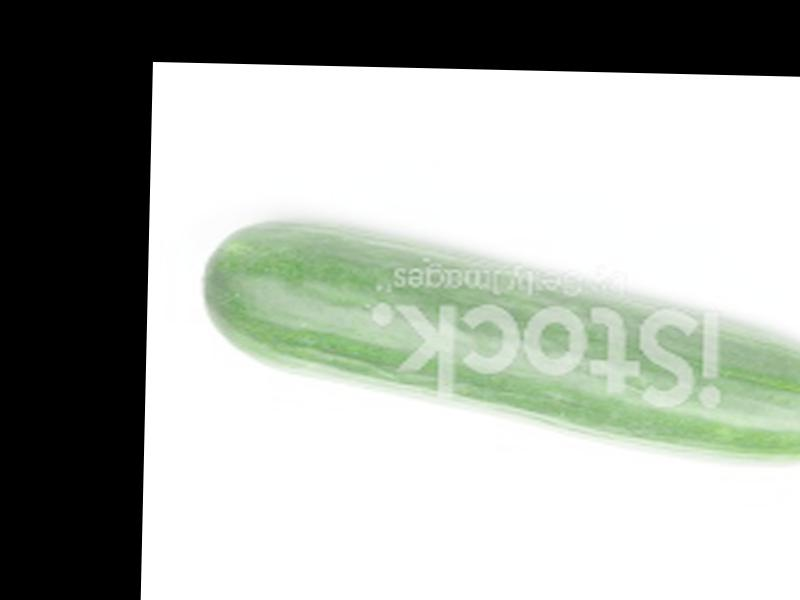Cucumber: (196, 221, 800, 466)
